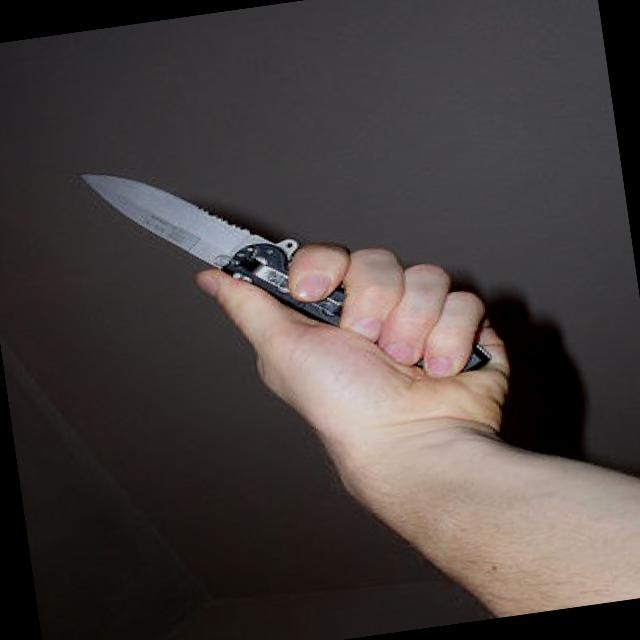knife: (64, 122, 431, 404)
